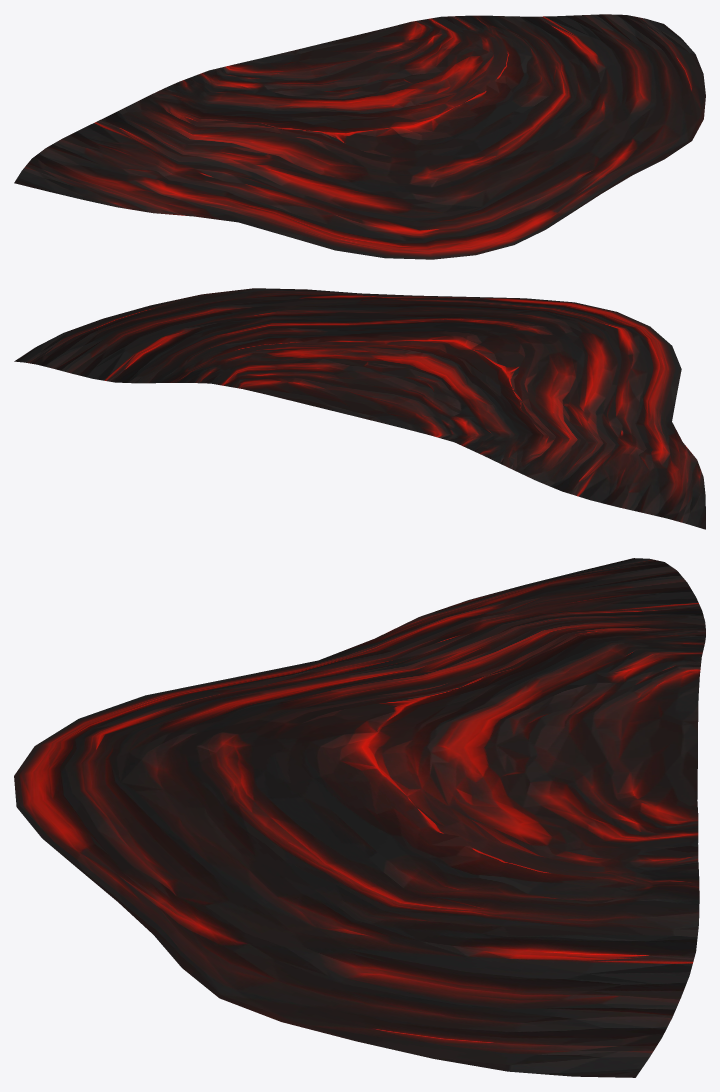
The model's file is desert_SM_Env_Lava_Spread_03.gltf.
The picture shows the model from 3 angles, top to bottom: view 1: azimuth 30°, elevation 25°; view 2: azimuth 150°, elevation 25°; view 3: azimuth 270°, elevation 25°; orthographic projection. The views are drawn at different scales.
Visible parts, largest first — view 1: SM_Env_Lava_Spread_03; view 2: SM_Env_Lava_Spread_03; view 3: SM_Env_Lava_Spread_03.
Part boxes in pixels (left/top/right/bottom): SM_Env_Lava_Spread_03: left=14, top=14, right=705, bottom=259; SM_Env_Lava_Spread_03: left=14, top=288, right=705, bottom=529; SM_Env_Lava_Spread_03: left=14, top=558, right=705, bottom=1077.
Bounding box in the file's own units: 11.09 × 0.7374 × 6.24.
Materials: 1 (1 with a texture image).
